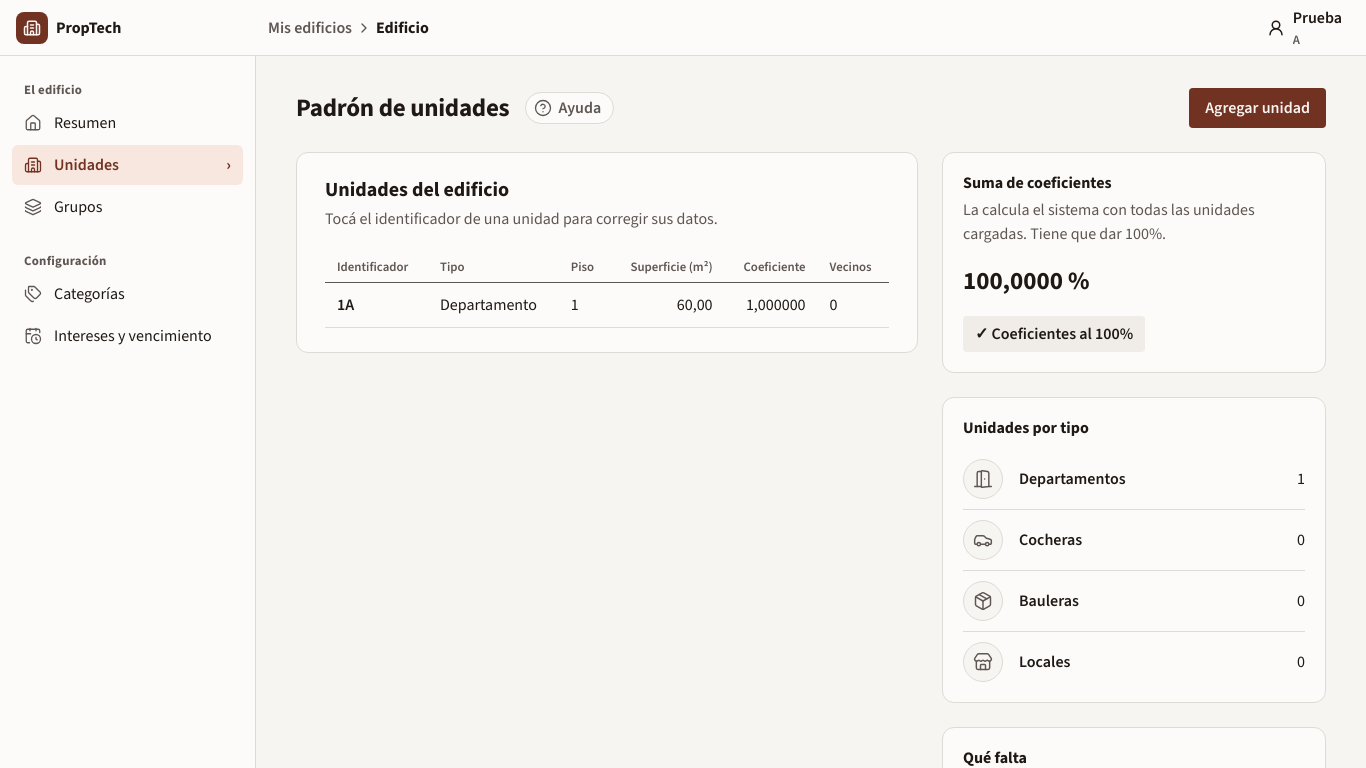
Test: R2D-R1: configurar padrón conserva edición y guardar
Click the button "1A".
click(346, 305)  # box [337,295,354,314]
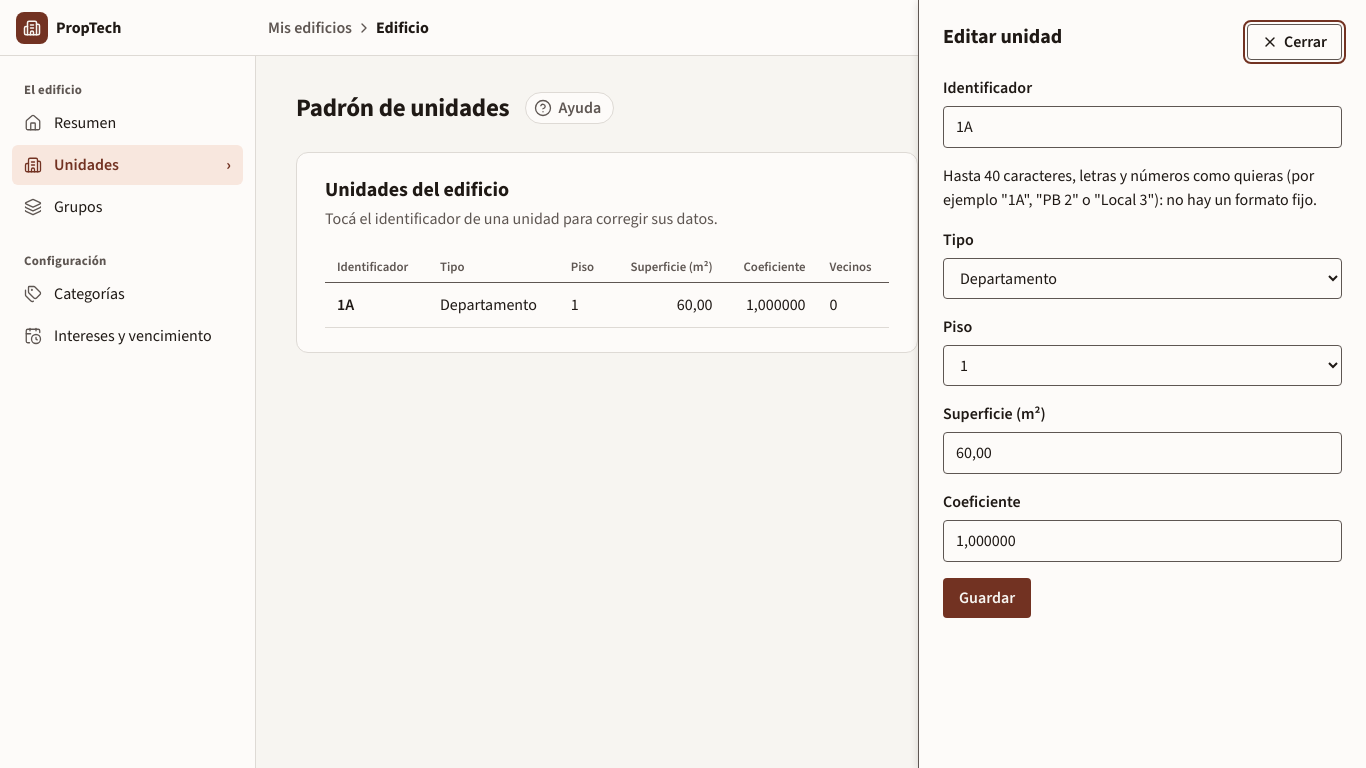
Result: the button "Guardar" is shown at [943,578,1031,618]
